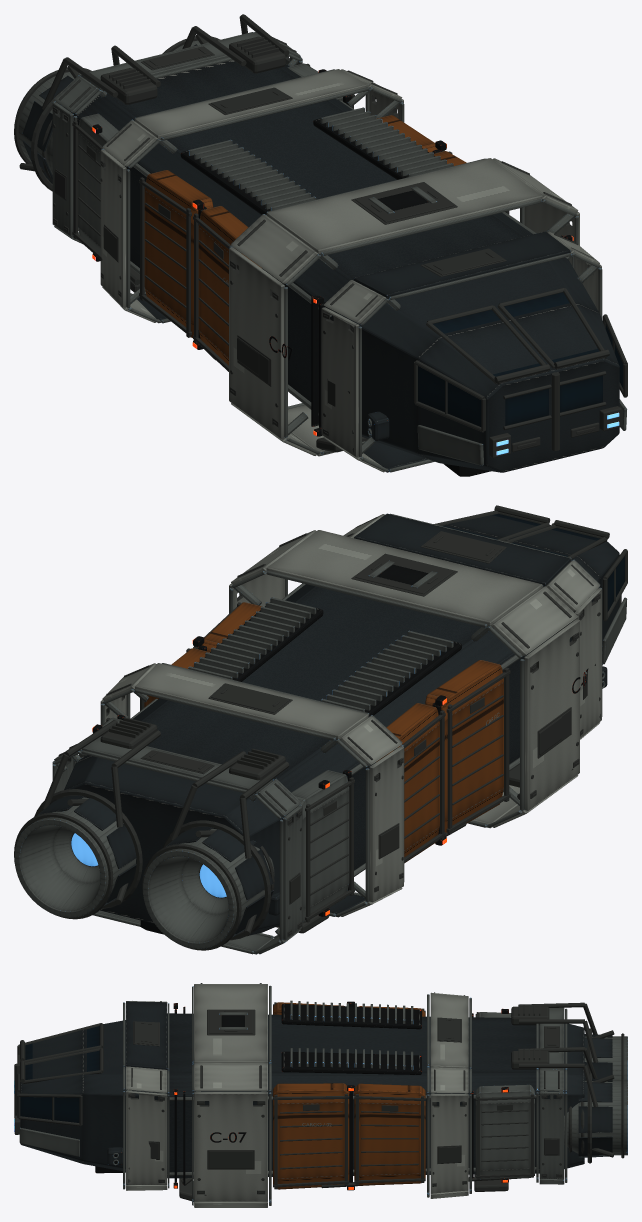
The model's file is c07_courier.glb.
3 views of the same model, one above another, from view 1: azimuth 30°, elevation 25°; view 2: azimuth 150°, elevation 25°; view 3: azimuth 270°, elevation 25° (orthographic). The views are drawn at different scales.
Visible parts, largest first — view 1: C07_hull, C07_armor_1, C07_cargo, C07_armor_0, C07_cockpit, C07_armor_2, C07_dorsal, C07_engines, C07_armor_3, C07_service, C07_lights, C07_keel; view 2: C07_hull, C07_engines, C07_armor_1, C07_cargo, C07_armor_2, C07_armor_0, C07_dorsal, C07_armor_3, C07_cockpit, C07_service, C07_lights, C07_keel; view 3: C07_hull, C07_cargo, C07_armor_1, C07_armor_2, C07_engines, C07_armor_0, C07_dorsal, C07_cockpit, C07_armor_3, C07_service, C07_keel, C07_lights.
Boxes of the visible parts, <box> form: C07_hull: <box>64,60,619,472</box>; C07_armor_1: <box>229,158,579,456</box>; C07_cargo: <box>72,63,509,371</box>; C07_armor_0: <box>321,231,602,472</box>; C07_cockpit: <box>414,288,627,465</box>; C07_armor_2: <box>100,69,404,323</box>; C07_dorsal: <box>180,107,453,214</box>; C07_engines: <box>14,14,289,191</box>; C07_armor_3: <box>52,32,302,244</box>; C07_service: <box>78,58,597,453</box>; C07_lights: <box>92,69,619,455</box>; C07_keel: <box>130,267,490,476</box>; C07_hull: <box>64,515,619,935</box>; C07_engines: <box>14,717,289,950</box>; C07_armor_1: <box>229,530,579,828</box>; C07_cargo: <box>79,602,510,922</box>; C07_armor_2: <box>100,663,404,917</box>; C07_armor_0: <box>343,513,602,739</box>; C07_dorsal: <box>188,561,461,716</box>; C07_armor_3: <box>52,736,302,954</box>; C07_cockpit: <box>433,505,627,664</box>; C07_service: <box>56,583,607,936</box>; C07_lights: <box>71,636,446,916</box>; C07_keel: <box>140,764,573,934</box>; C07_hull: <box>20,1013,584,1178</box>; C07_cargo: <box>273,1002,534,1189</box>; C07_armor_1: <box>192,983,271,1207</box>; C07_armor_2: <box>427,992,471,1198</box>; C07_engines: <box>511,1002,627,1163</box>; C07_armor_0: <box>123,1001,169,1190</box>; C07_dorsal: <box>219,1000,421,1074</box>; C07_cockpit: <box>14,1023,103,1156</box>; C07_armor_3: <box>536,1007,567,1184</box>; C07_service: <box>107,1006,562,1184</box>; C07_keel: <box>95,1166,520,1201</box>; C07_lights: <box>14,1001,508,1190</box>.
Bounding box in the file's own units: 12.04 × 7.96 × 29.86.
Materials: 1 (1 with a texture image).
